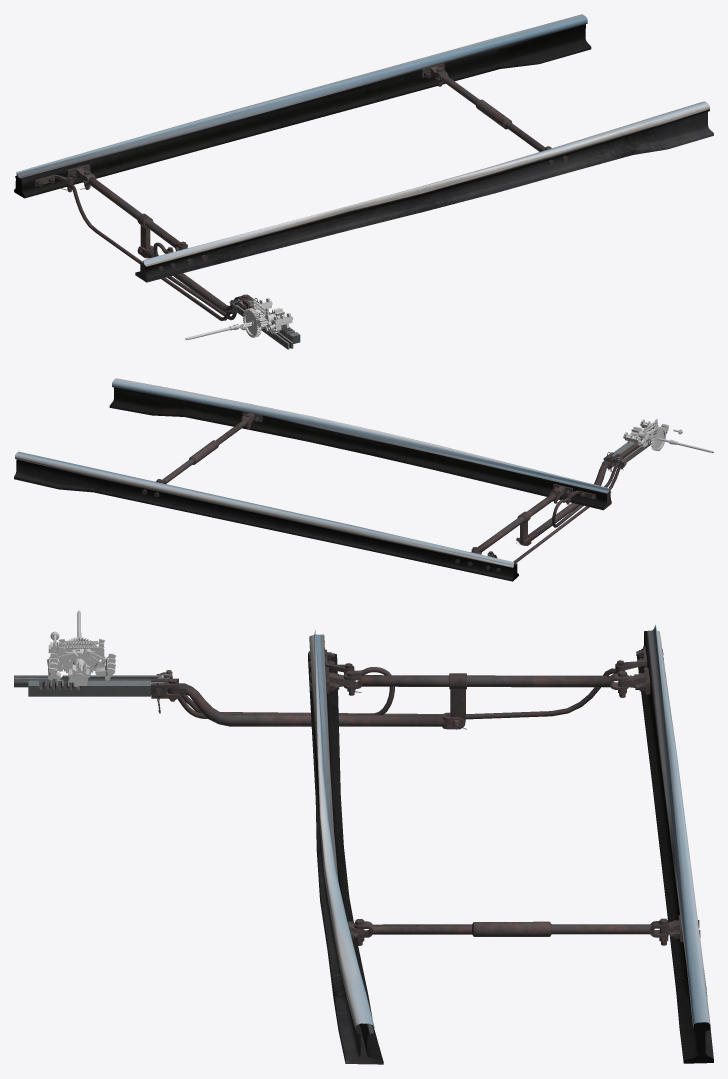
File: sp6_ani_11_otk_StrelMinus_EnginePlus.fbx
The picture shows the model from 3 angles, top to bottom: view 1: azimuth 30°, elevation 25°; view 2: azimuth 150°, elevation 25°; view 3: azimuth 270°, elevation 25°; orthographic projection. The views are drawn at different scales.
Parts seen in each view (by area): view 1: ostr_left, ostr_right, soedenit_tyaga_1, soedenit_tyaga_2, tyag_contrl_long, rab_tyaga; view 2: ostr_right, ostr_left, soedenit_tyaga_1, soedenit_tyaga_2, rab_tyaga, tyag_contrl_long, tyag_contrl_short; view 3: ostr_right, ostr_left, soedenit_tyaga_1, soedenit_tyaga_2, rab_tyaga, shiber, tyag_contrl_long.
Part boxes in pixels (left/top/right/bottom): ostr_left: left=14, top=14, right=591, bottom=198; ostr_right: left=135, top=101, right=713, bottom=282; soedenit_tyaga_1: left=80, top=170, right=187, bottom=251; soedenit_tyaga_2: left=435, top=67, right=551, bottom=151; tyag_contrl_long: left=61, top=177, right=234, bottom=320; rab_tyaga: left=137, top=245, right=259, bottom=313; ostr_right: left=109, top=378, right=611, bottom=510; ostr_left: left=14, top=451, right=518, bottom=581; soedenit_tyaga_1: left=471, top=488, right=559, bottom=554; soedenit_tyaga_2: left=156, top=413, right=252, bottom=483; rab_tyaga: left=516, top=452, right=619, bottom=545; tyag_contrl_long: left=489, top=462, right=623, bottom=563; tyag_contrl_short: left=552, top=460, right=619, bottom=527; ostr_right: left=308, top=630, right=383, bottom=1064; ostr_left: left=615, top=624, right=713, bottom=1063; soedenit_tyaga_1: left=343, top=670, right=628, bottom=725; soedenit_tyaga_2: left=354, top=918, right=668, bottom=945; rab_tyaga: left=151, top=678, right=466, bottom=729; shiber: left=28, top=680, right=163, bottom=696; tyag_contrl_long: left=170, top=660, right=631, bottom=719.
Bounding box in the file's own units: 4.07 × 0.3388 × 2.82.
